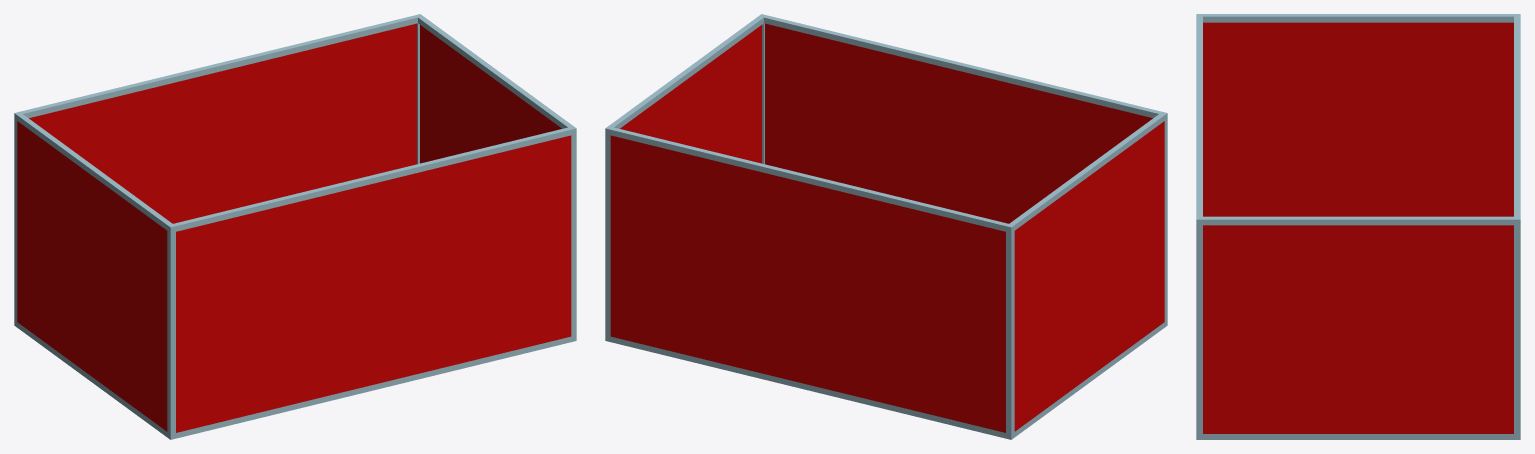
File: container-foldable.glb
The picture shows the model from 3 angles, left to right: view 1: azimuth 30°, elevation 25°; view 2: azimuth 150°, elevation 25°; view 3: azimuth 270°, elevation 25°; orthographic projection. The views are drawn at different scales.
Visible parts, largest first — view 1: world; view 2: world; view 3: world.
Boxes of the visible parts, box(x1,y1,x2,y2) form: world: box(14, 14, 576, 439); world: box(605, 14, 1167, 439); world: box(1196, 14, 1520, 439).
Size of the model in its own units: 600 by 300 by 400.
